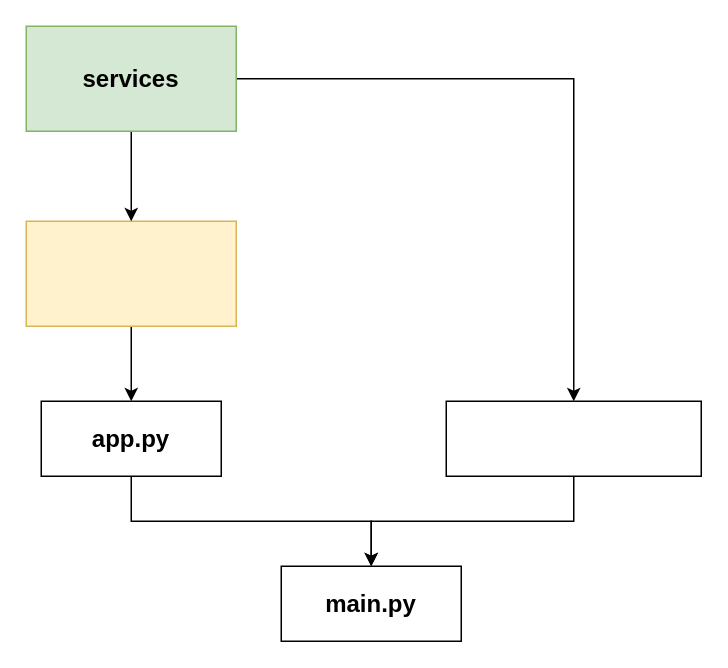
Some shapes in this 728 by 668 pixel diagram are drawn without their labels. The box of each missing label's shape, as (x1, y1, x2, y2) in pixels:
api: (25, 220, 236, 326)
periodic_parser.py: (445, 400, 701, 476)
